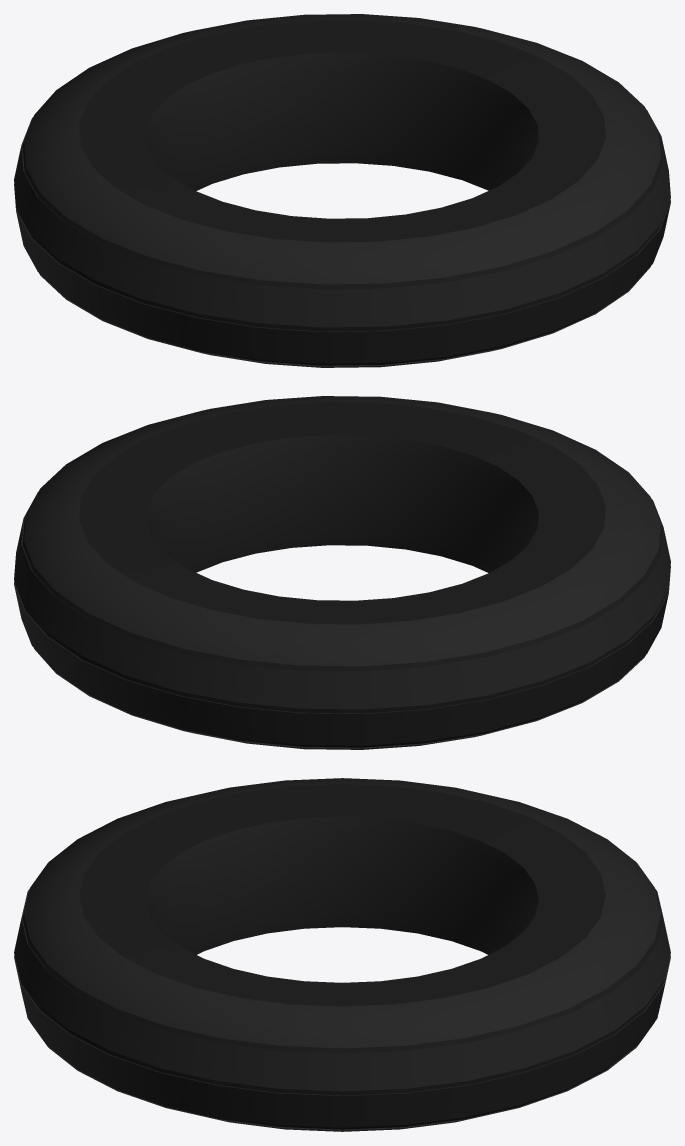
The model's file is LunTai_MoTuo_1X5.FBX.
The picture shows the model from 3 angles, top to bottom: view 1: azimuth 30°, elevation 25°; view 2: azimuth 150°, elevation 25°; view 3: azimuth 270°, elevation 25°; orthographic projection.
Visible parts, largest first — view 1: Box001; view 2: Box001; view 3: Box001.
Boxes of the visible parts, x1=… form: Box001: x1=14, y1=14, x2=670, y2=367; Box001: x1=14, y1=396, x2=670, y2=749; Box001: x1=14, y1=778, x2=670, y2=1131.
Size of the model in its own units: 0.499 by 0.1 by 0.499.
